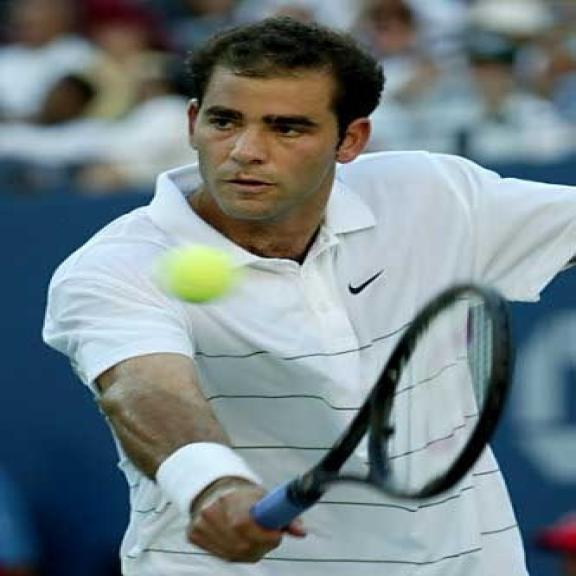face: (171, 31, 383, 233)
